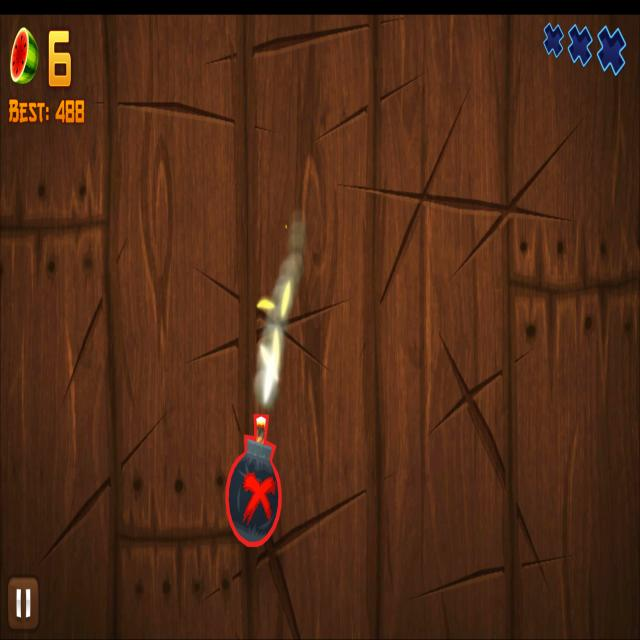bomb: (225, 411, 283, 549)
